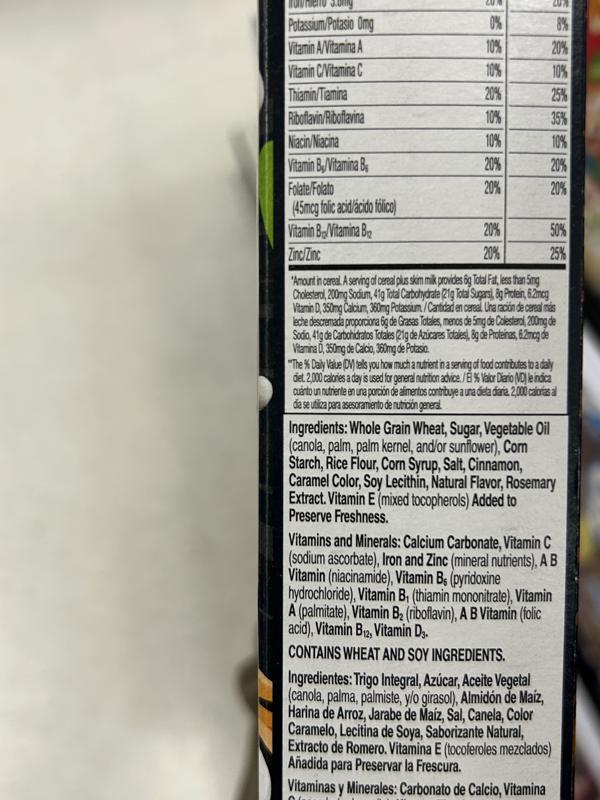ingredients: (288, 420, 557, 524)
